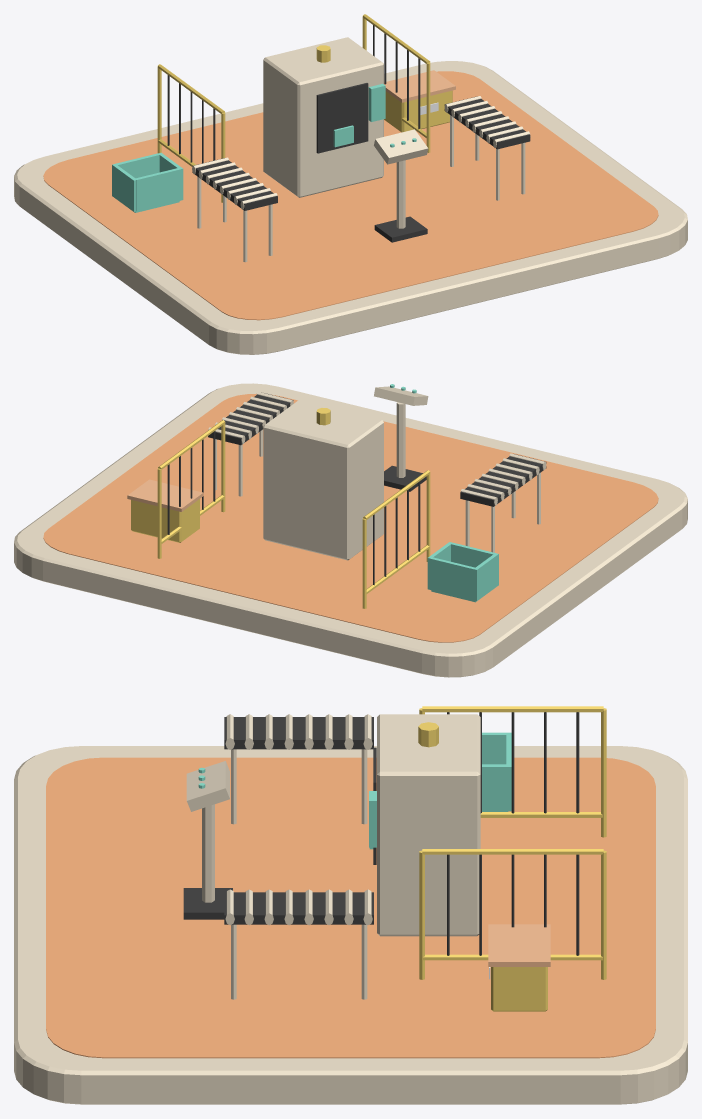
3 views of the same model, one above another, from view 1: azimuth 30°, elevation 25°; view 2: azimuth 150°, elevation 25°; view 3: azimuth 270°, elevation 25° (orthographic). The views are drawn at different scales.
Parts seen in each view (by area): view 1: COM-02 Floor Surface, COM-01 Rounded Base Direct, Machine, Cabinet window, Box, Belt.001, Belt, Bin end, Lid, Control console, Bin side, Foot (+3 smaller); view 2: COM-02 Floor Surface, COM-01 Rounded Base Direct, Machine, Box, Belt, Bin end.001, Belt.001, Lid, Bin side, Stand, Bin end, Control console (+1 smaller); view 3: COM-02 Floor Surface, COM-01 Rounded Base Direct, Machine, Belt, Belt.001, Lid, Box, Control console, Bin side.001, Rail.001, Stand, Foot (+7 smaller).
Part boxes in pixels (box(x1,y1,x2,y2)): COM-02 Floor Surface: box(43, 71, 658, 320); COM-01 Rounded Base Direct: box(14, 61, 687, 354); Machine: box(263, 37, 383, 197); Cabinet window: box(316, 83, 368, 153); Box: box(384, 90, 452, 132); Belt.001: box(444, 96, 530, 149); Belt: box(192, 158, 277, 210); Bin end: box(135, 168, 180, 211); Lid: box(384, 70, 455, 102); Control console: box(374, 129, 428, 164); Bin side: box(112, 164, 136, 211); Foot: box(374, 216, 427, 242); COM-02 Floor Surface: box(43, 393, 658, 642); COM-01 Rounded Base Direct: box(14, 383, 687, 677); Machine: box(263, 400, 383, 560); Box: box(131, 499, 199, 542); Belt: box(460, 454, 546, 506); Bin end.001: box(430, 557, 475, 600); Belt.001: box(208, 392, 293, 445); Lid: box(127, 479, 203, 511); Bin side: box(474, 553, 498, 601); Stand: box(396, 402, 405, 477); Bin end: box(450, 542, 495, 567); Control console: box(374, 386, 428, 405); COM-02 Floor Surface: box(46, 757, 655, 1058); COM-01 Rounded Base Direct: box(14, 746, 687, 1104); Machine: box(377, 714, 480, 936); Belt: box(224, 717, 373, 749); Belt.001: box(224, 892, 373, 924); Lid: box(488, 924, 550, 966); Box: box(491, 967, 547, 1011); Control console: box(186, 761, 229, 811); Bin side.001: box(482, 764, 511, 811); Rail.001: box(422, 706, 603, 712); Stand: box(202, 804, 214, 902); Foot: box(183, 888, 232, 919).
Size of the model in its own units: 6 by 1.84 by 5.2.
Materials: 1 (1 with a texture image).
